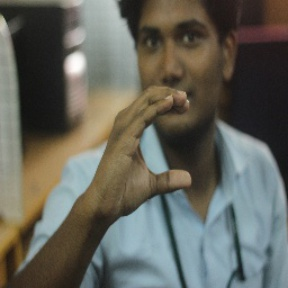C: (108, 84, 199, 197)
